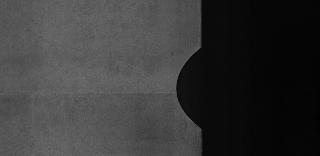welding line: (1, 87, 182, 101)
